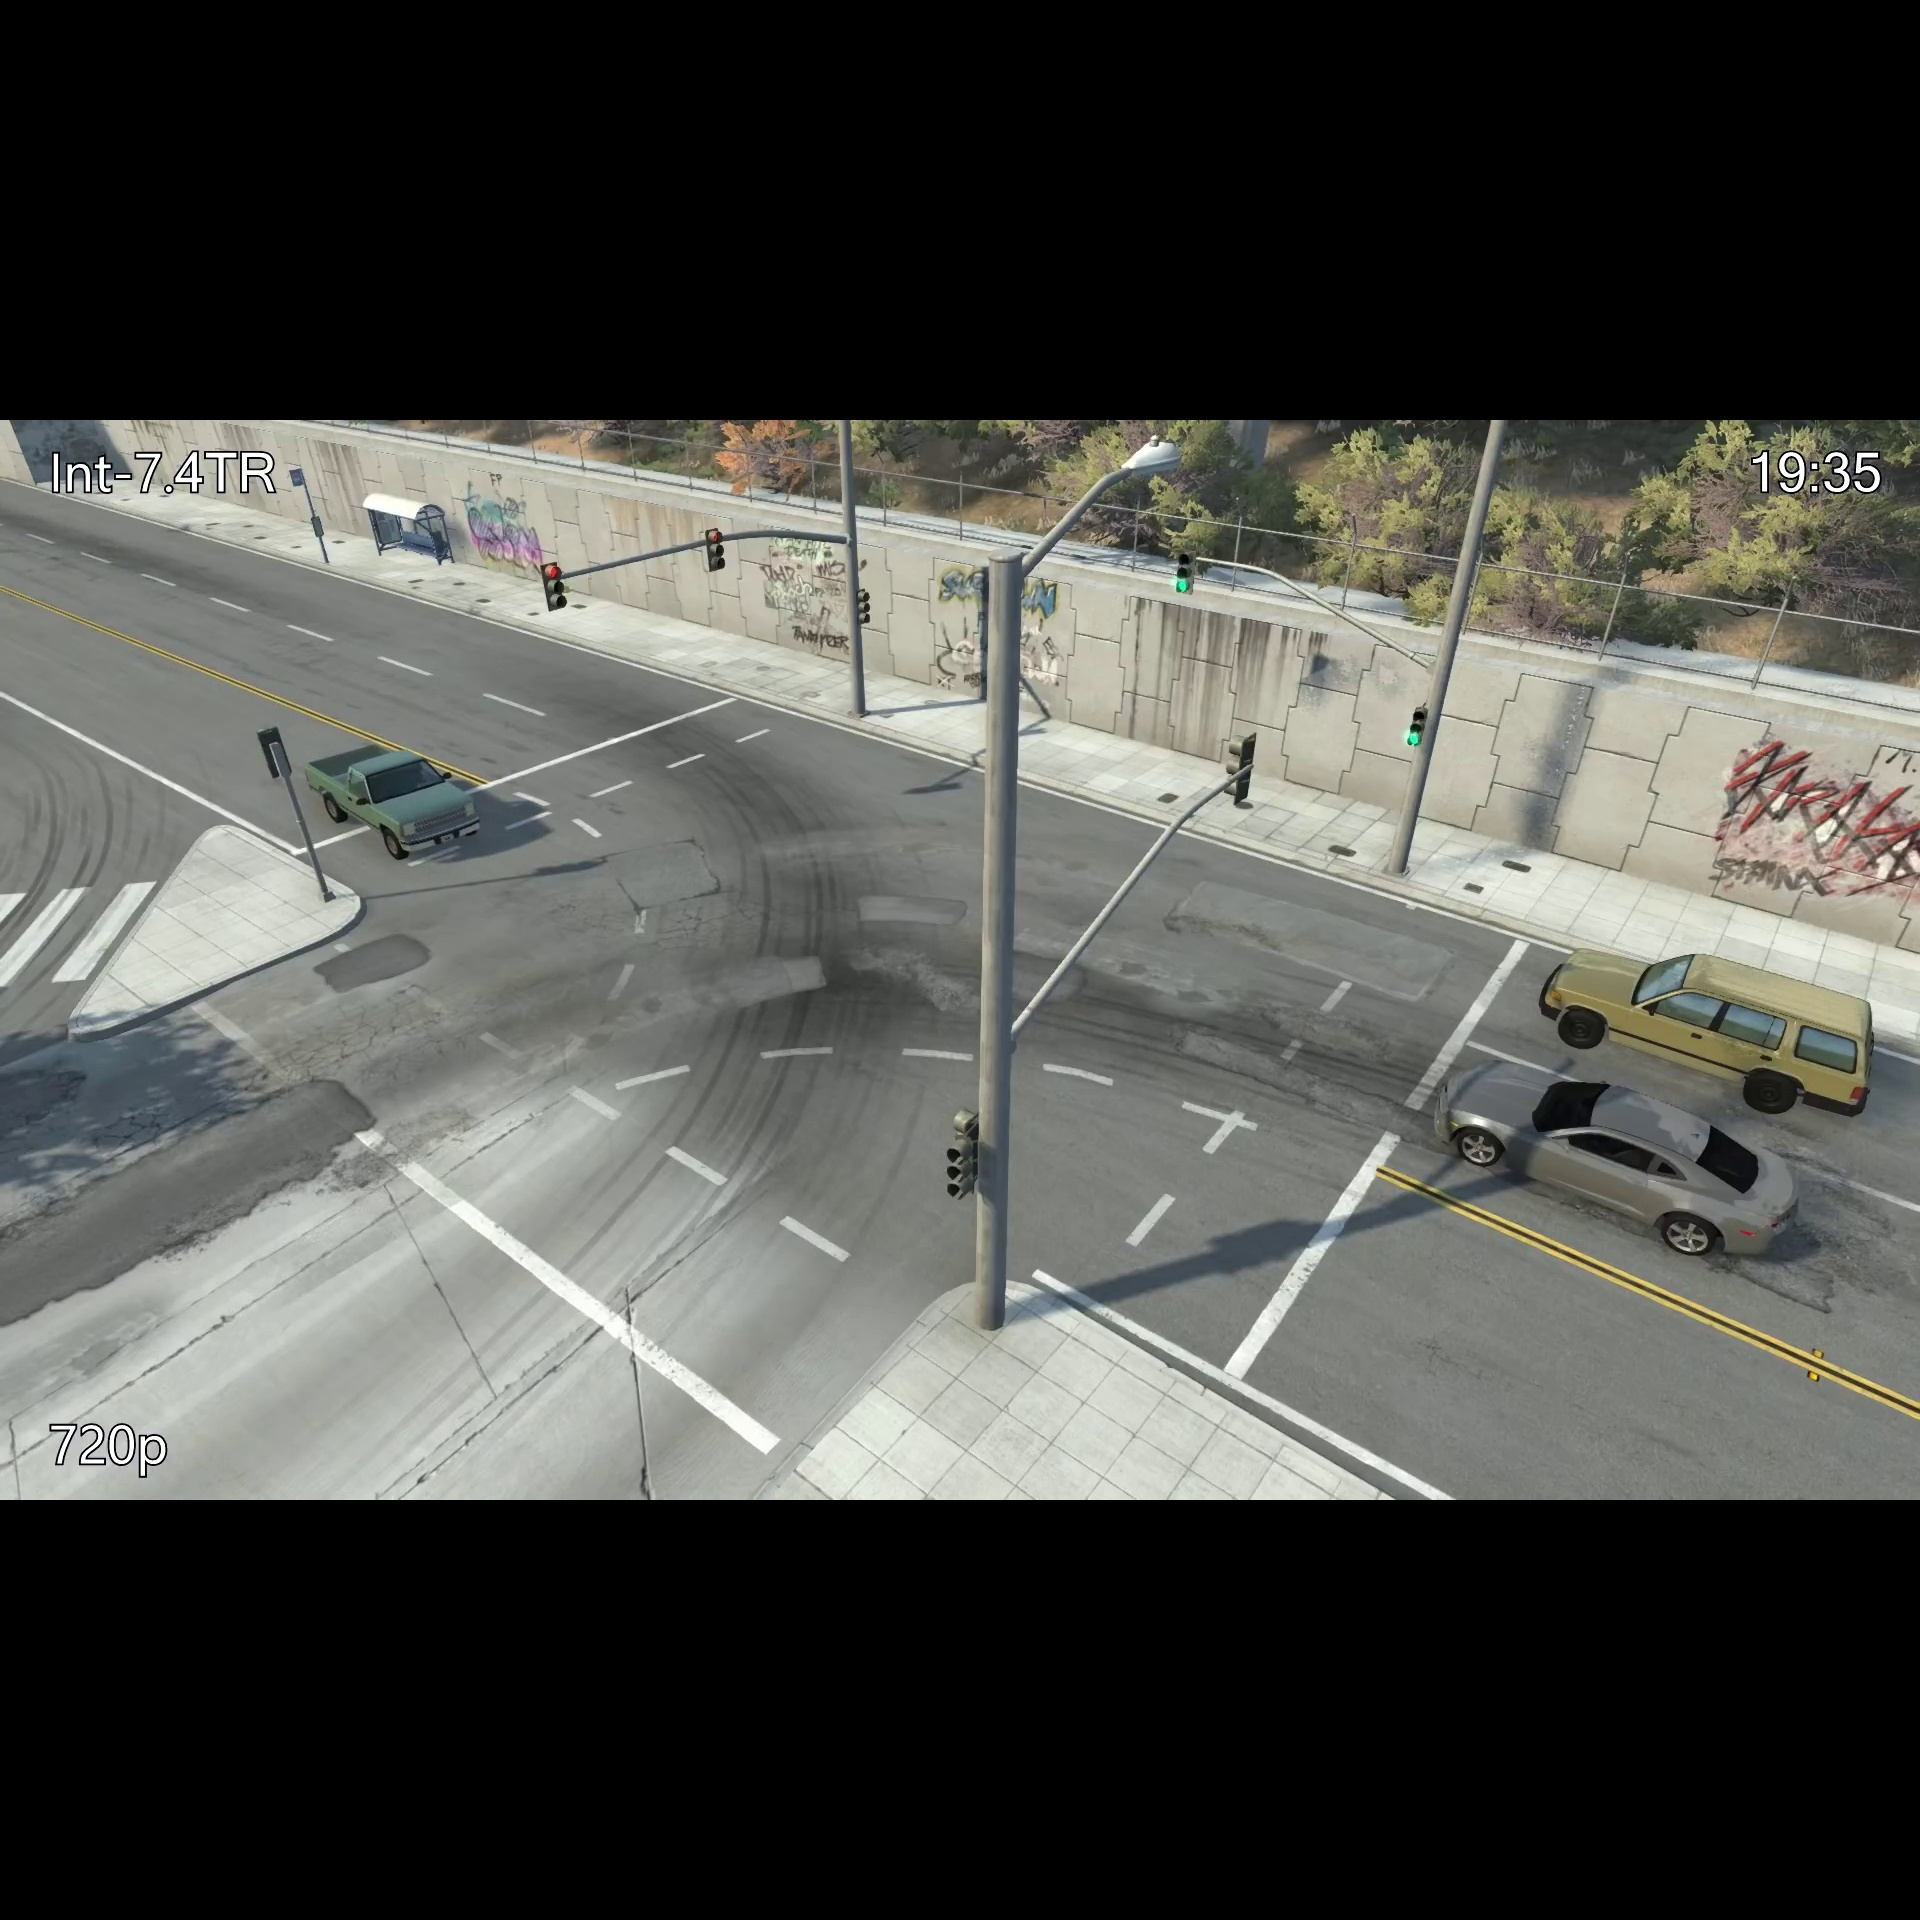vehicle: (1429, 1051, 1813, 1276), (1530, 941, 1887, 1136), (295, 742, 482, 867)
